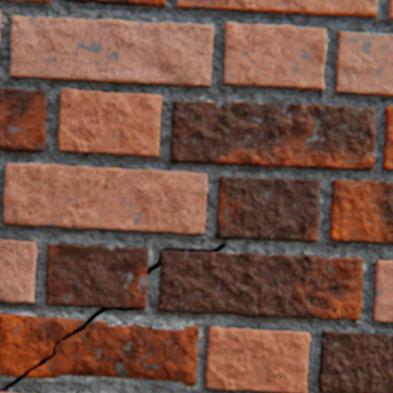brick: (10, 17, 212, 87), (4, 164, 206, 234), (158, 250, 362, 318), (170, 102, 373, 170), (222, 23, 325, 92), (58, 90, 161, 157), (215, 177, 318, 242), (205, 327, 308, 392), (46, 244, 148, 308), (317, 331, 392, 392), (328, 180, 392, 243), (334, 33, 392, 97), (176, 0, 376, 18), (0, 89, 46, 153), (0, 240, 36, 303), (371, 261, 392, 321), (65, 0, 165, 8), (382, 107, 392, 170), (0, 0, 51, 4), (387, 0, 392, 20), (0, 12, 1, 41)
broken_brick: (0, 313, 198, 385)
crack: (0, 341, 58, 391), (62, 307, 137, 340), (162, 243, 225, 252), (146, 255, 160, 275)
